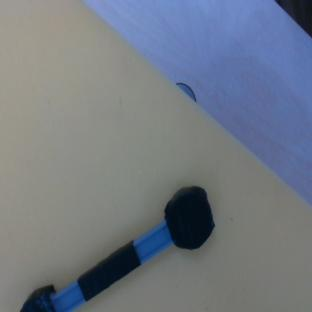part_3_bad: (8, 179, 228, 312)
